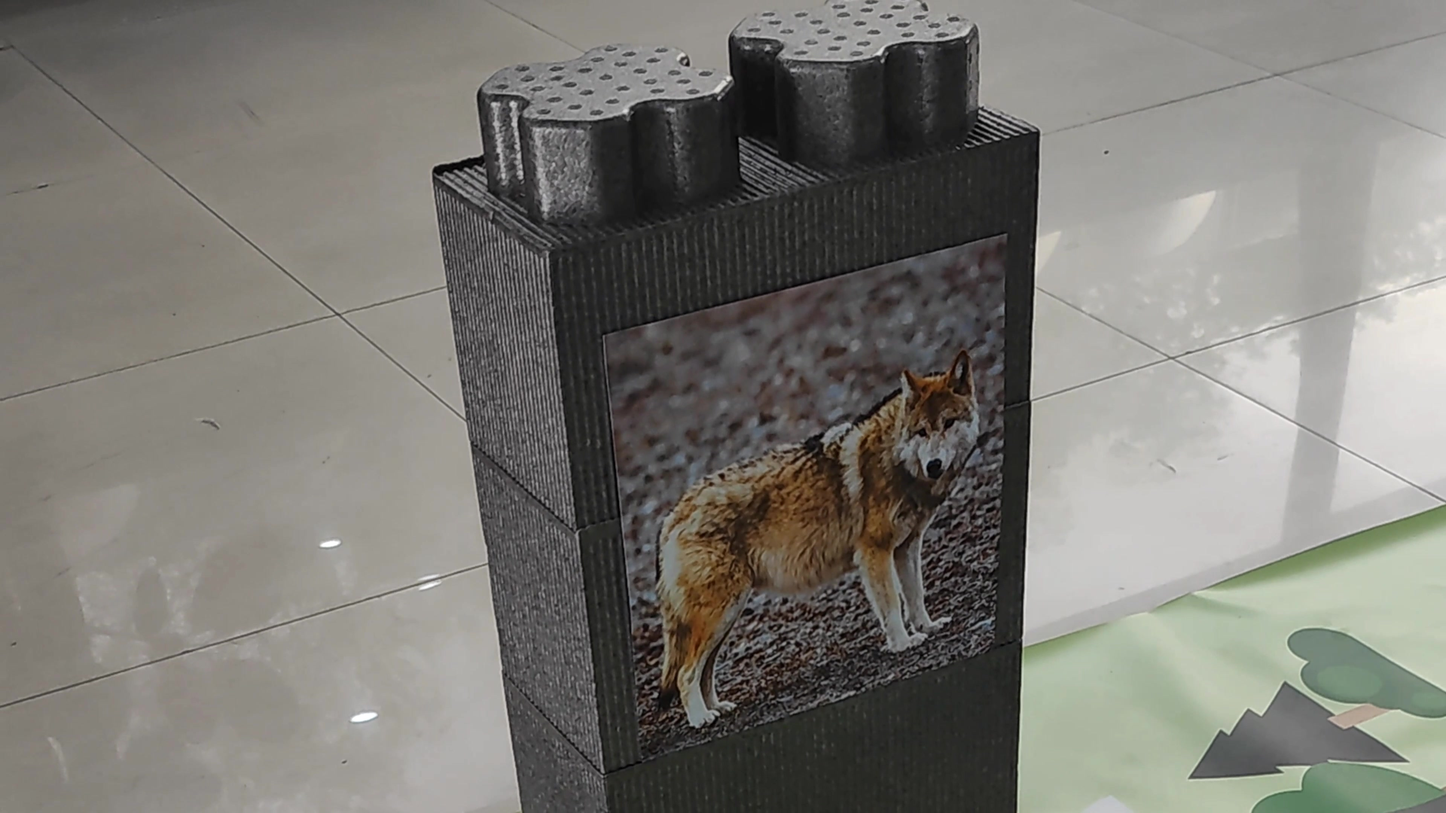wolf: (626, 320, 1004, 723)
